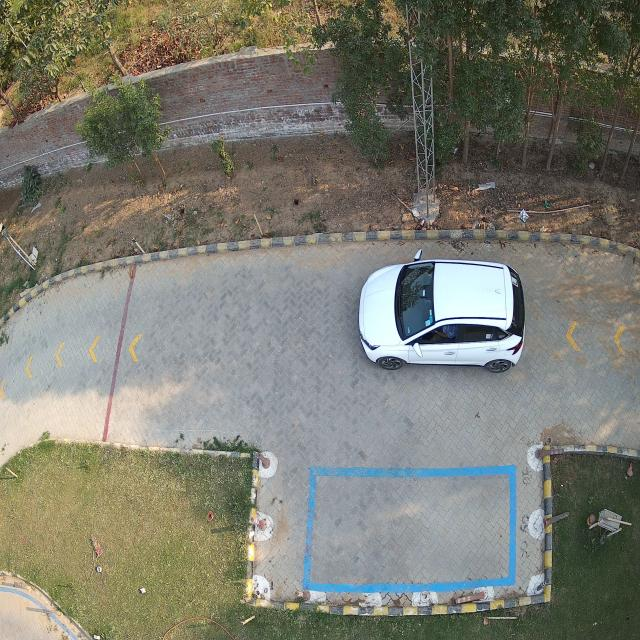car: (358, 257, 526, 372)
